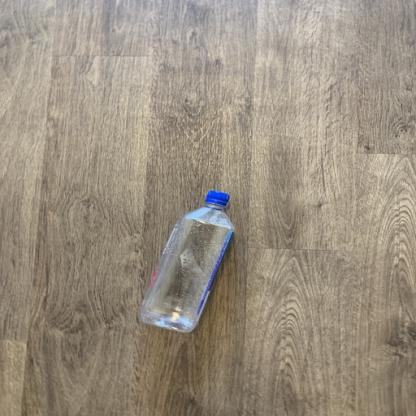trash: (134, 190, 236, 336)
